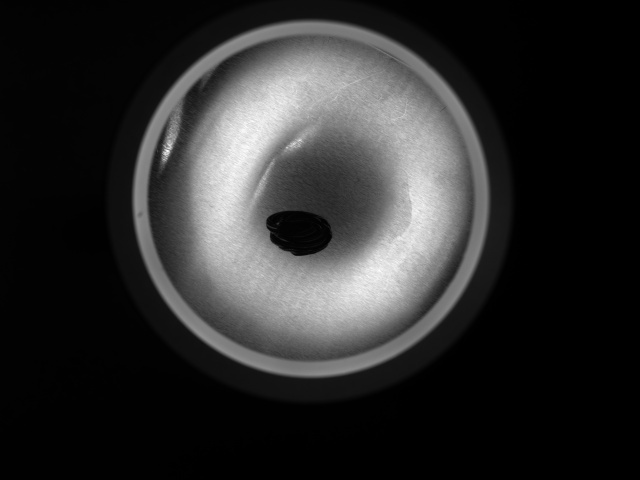zang_wu: (262, 208, 336, 259)
